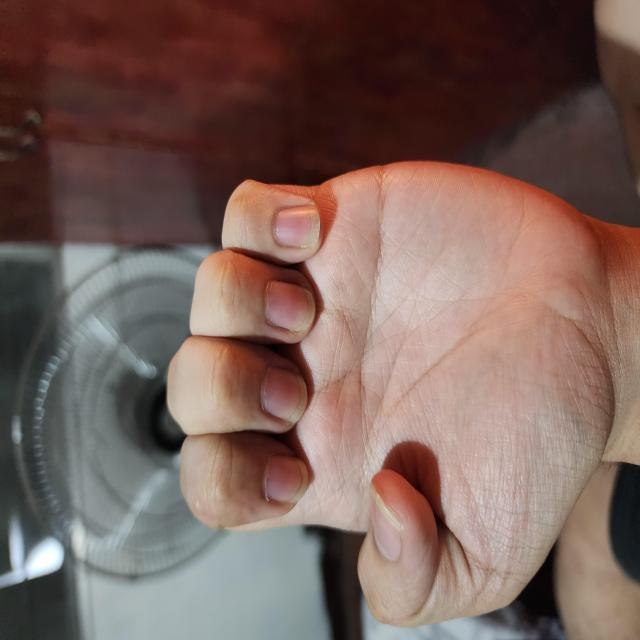E: (13, 166, 480, 619)
